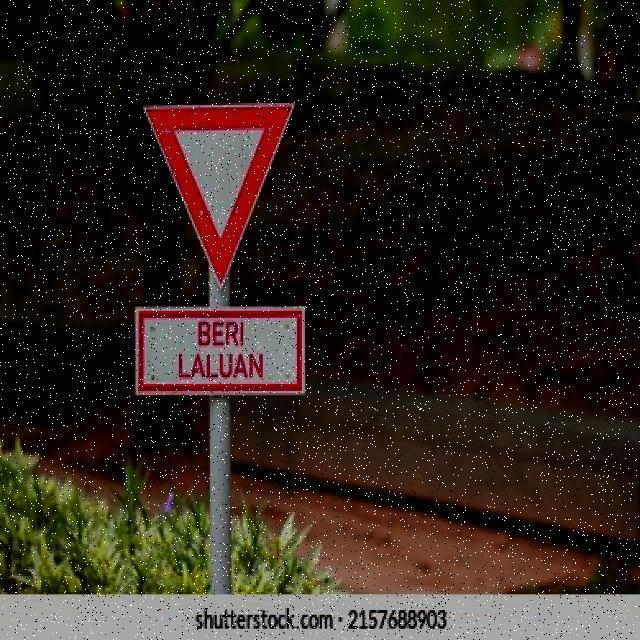Traffic sign: (130, 97, 313, 405)
